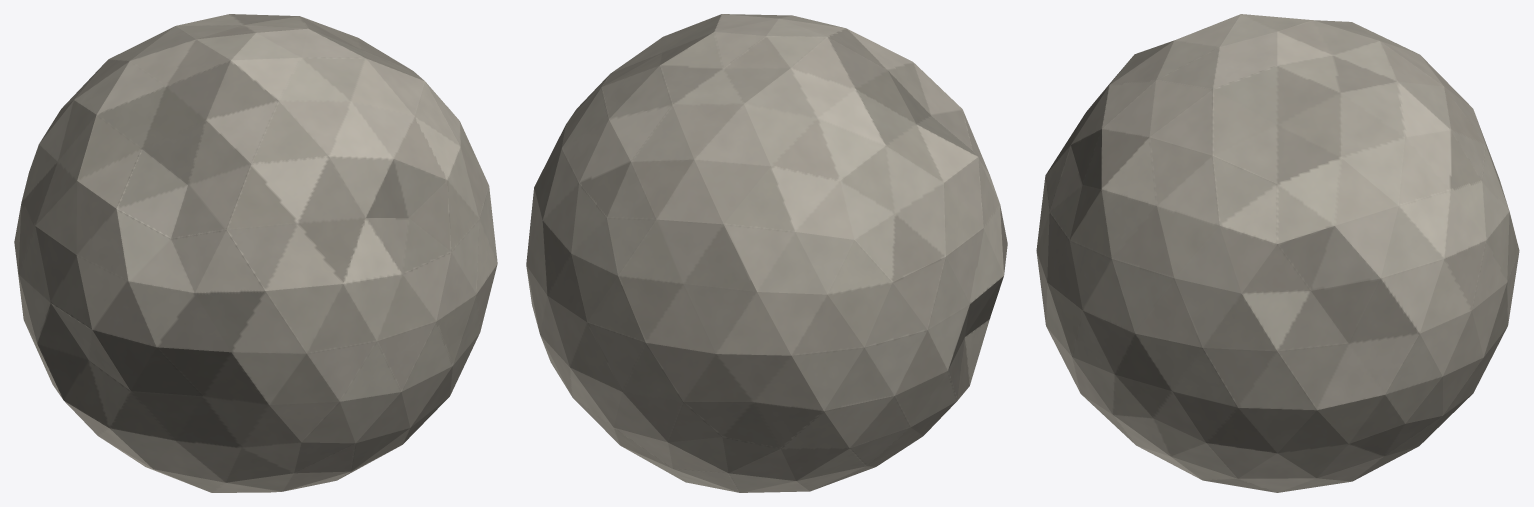
Rendered from mercury.glb.
3 renders of one model, left to right at view 1: azimuth 30°, elevation 25°; view 2: azimuth 150°, elevation 25°; view 3: azimuth 270°, elevation 25°, orthographic.
Parts seen in each view (by area): view 1: Mercury; view 2: Mercury; view 3: Mercury.
Boxes of the visible parts, bbox=[...] form: Mercury: bbox=[14, 14, 497, 492]; Mercury: bbox=[526, 14, 1007, 492]; Mercury: bbox=[1036, 14, 1519, 492].
Bounding box in the file's own units: 1.96 × 1.97 × 2.
Materials: 1 (1 with a texture image).
